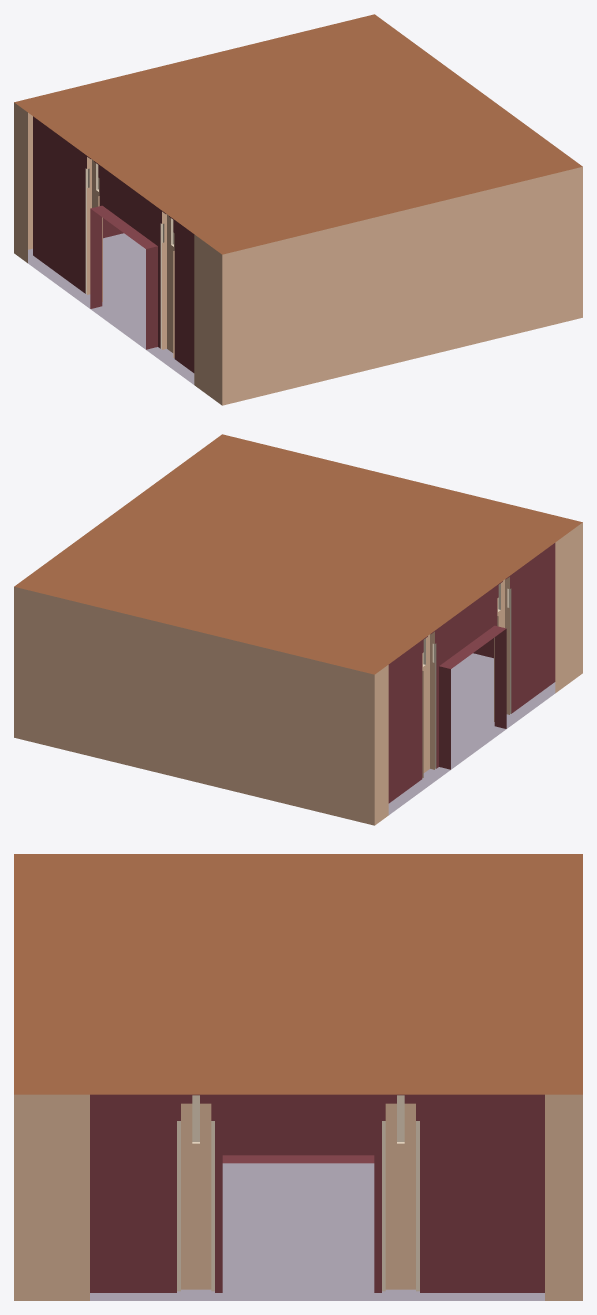
Rendered from voices_room.dae.
3 renders of one model, top to bottom at view 1: azimuth 30°, elevation 25°; view 2: azimuth 150°, elevation 25°; view 3: azimuth 270°, elevation 25°, orthographic. The views are drawn at different scales.
Parts seen in each view (by area): view 1: $dummy_node (×5); view 2: $dummy_node (×5); view 3: $dummy_node (×5).
Boxes of the visible parts, box(x1,y1,x2,y2) form: $dummy_node (×5): box(14, 14, 582, 405); $dummy_node (×5): box(14, 434, 582, 825); $dummy_node (×5): box(14, 854, 582, 1300).
Size of the model in its own units: 15 by 6 by 15.
